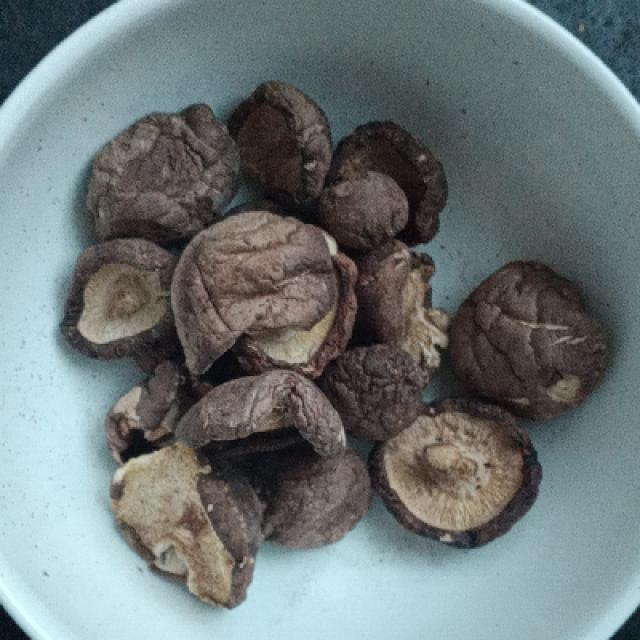Lentinus edodes: (446, 258, 613, 425), (175, 209, 339, 376), (371, 403, 543, 553), (108, 447, 257, 607), (79, 105, 236, 235), (58, 233, 187, 360), (336, 120, 445, 255), (168, 373, 344, 454), (230, 79, 331, 216)
